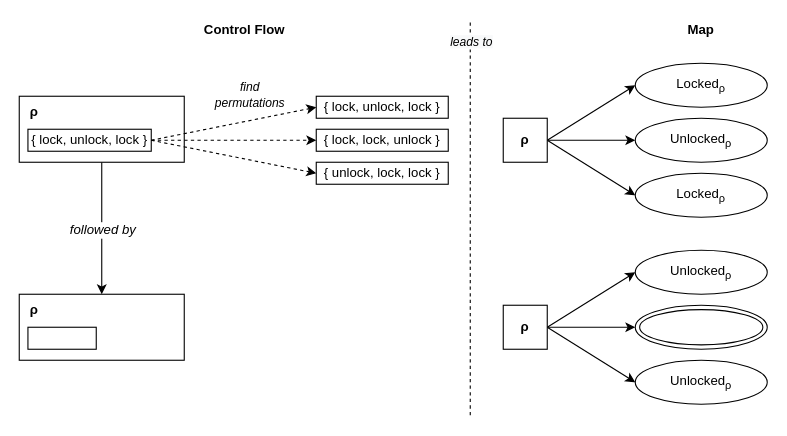
The diagram is 787 pixels wide and 436 high, and some of its shapes have lost their labels. The shapes that lost their labels are listed below. From the top down, each one's centre as x and y in pixels, then its label:
pixel 61 337: { unlock }
pixel 700 326: Error ρ
